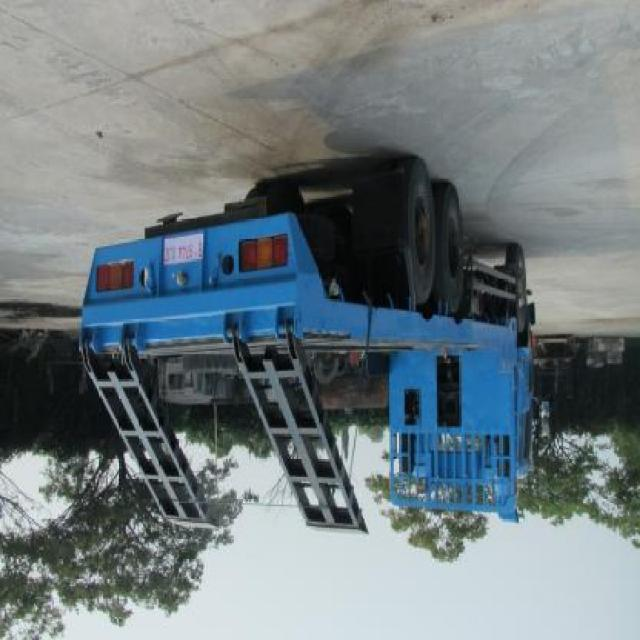truck: (83, 161, 542, 541)
